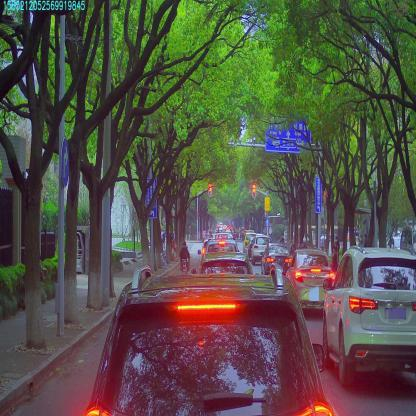traffic-light: (208, 183, 212, 196), (252, 183, 255, 197)
